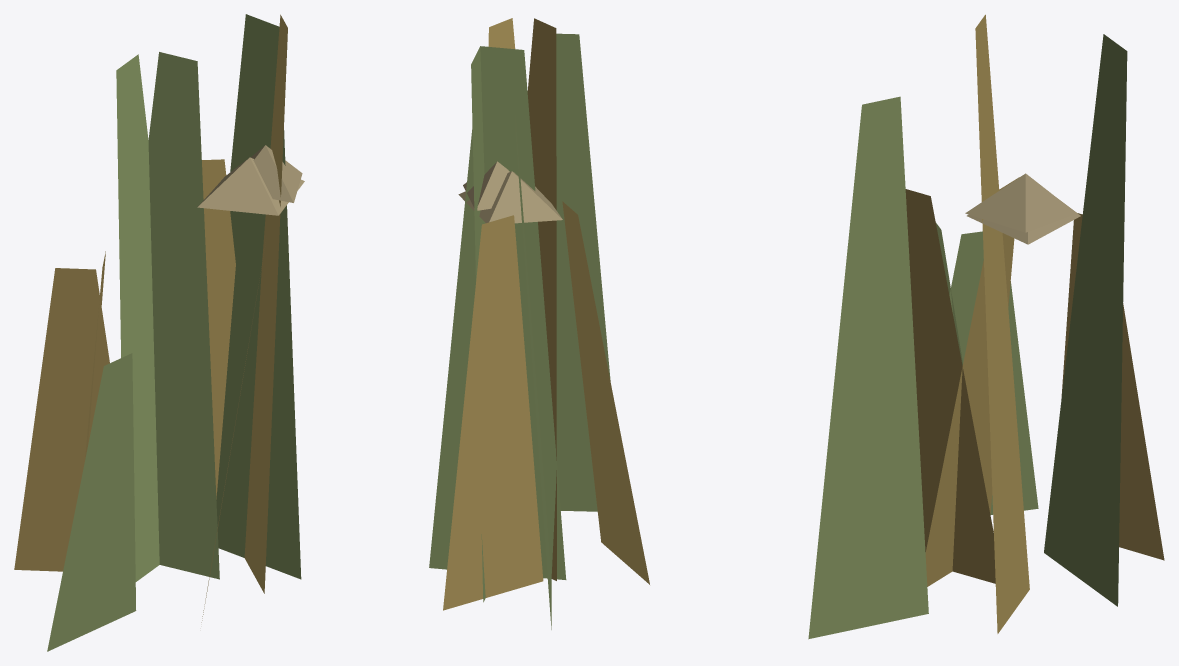
The model's file is shrub.trop.savanna_grass__autumn.glb.
3 renders of one model, left to right at view 1: azimuth 30°, elevation 25°; view 2: azimuth 150°, elevation 25°; view 3: azimuth 270°, elevation 25°, orthographic. The views are drawn at different scales.
Visible parts, largest first — view 1: shrub.trop.savanna_grass__autumn; view 2: shrub.trop.savanna_grass__autumn; view 3: shrub.trop.savanna_grass__autumn.
Part boxes in pixels (x1,y1,x2,y2): shrub.trop.savanna_grass__autumn: (14,14,304,651); shrub.trop.savanna_grass__autumn: (429,18,649,629); shrub.trop.savanna_grass__autumn: (808,14,1164,639).
Bounding box in the file's own units: 0.7467 × 1.26 × 0.6909.
